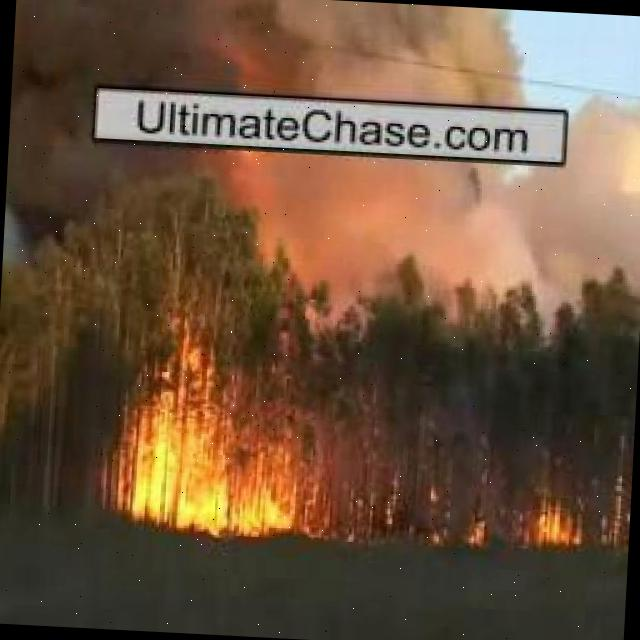fire: (112, 376, 306, 544), (526, 498, 586, 549), (316, 482, 366, 540), (612, 480, 626, 546), (462, 521, 483, 544)
